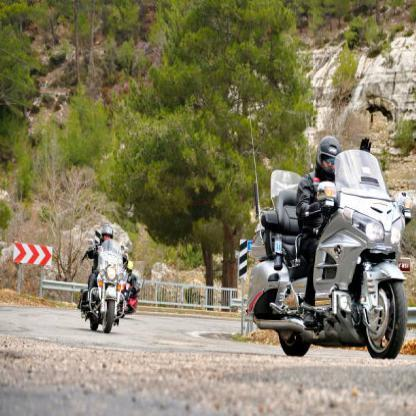Motorcycle: (238, 148, 409, 373), (61, 225, 142, 338)
